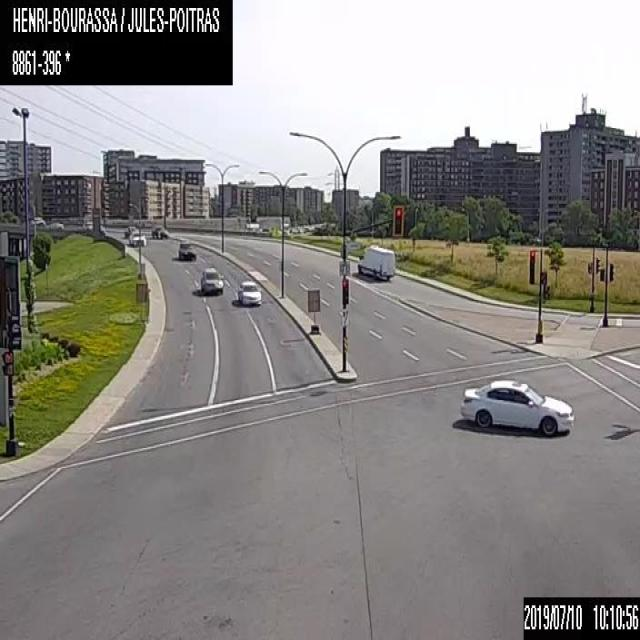vehicle: (458, 377, 574, 436), (356, 243, 394, 280), (236, 279, 261, 305), (200, 265, 222, 292), (178, 241, 196, 260), (129, 230, 146, 246), (151, 224, 166, 237), (124, 225, 137, 238), (30, 216, 44, 225), (50, 221, 64, 229)
